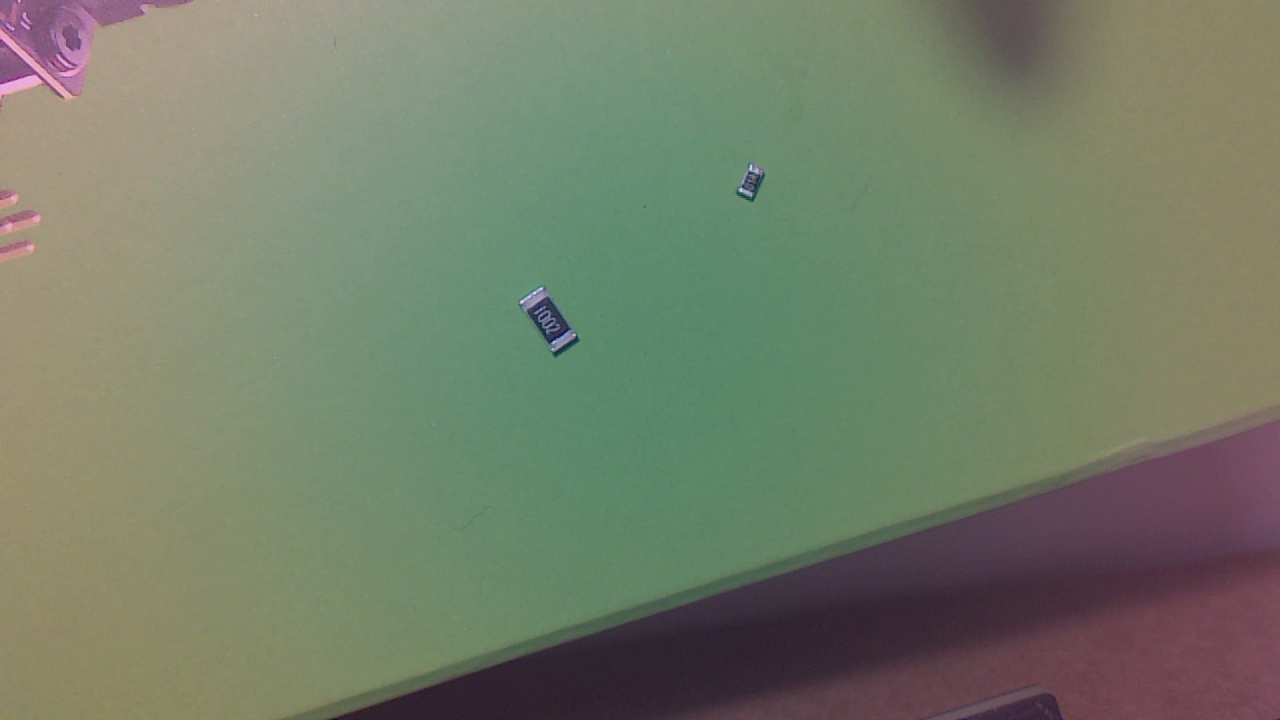Resistor: (525, 291, 587, 365), (739, 168, 770, 209)
